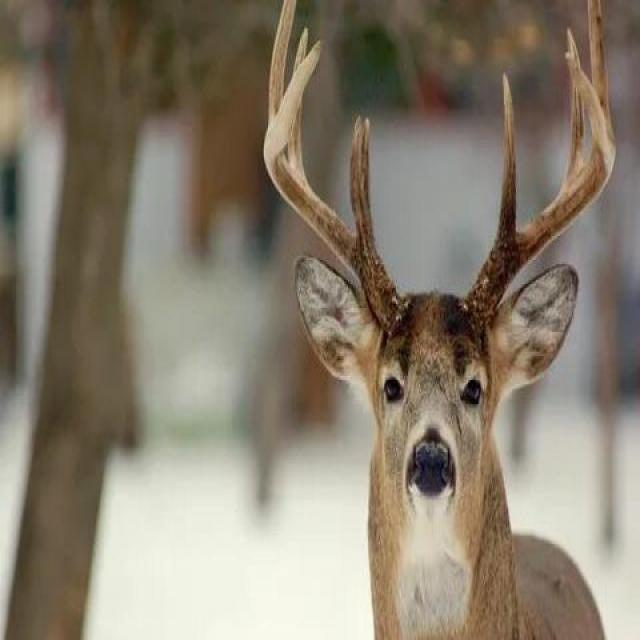deer: (240, 75, 564, 582)
